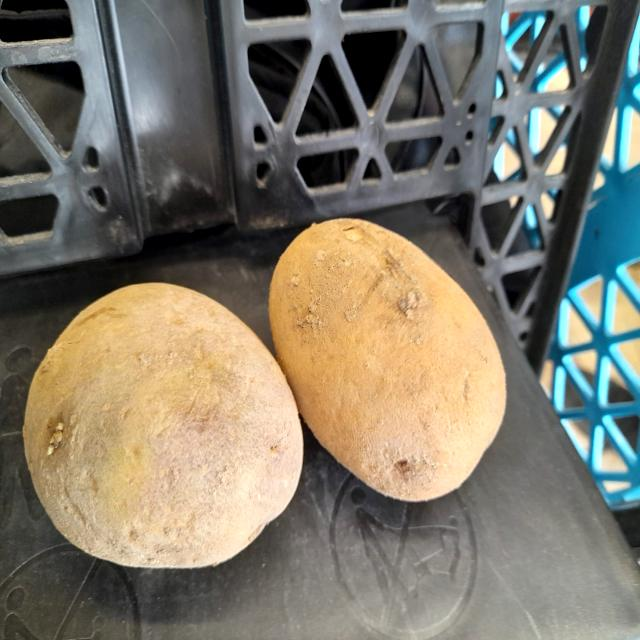potato: (10, 269, 312, 572), (266, 206, 516, 501)
